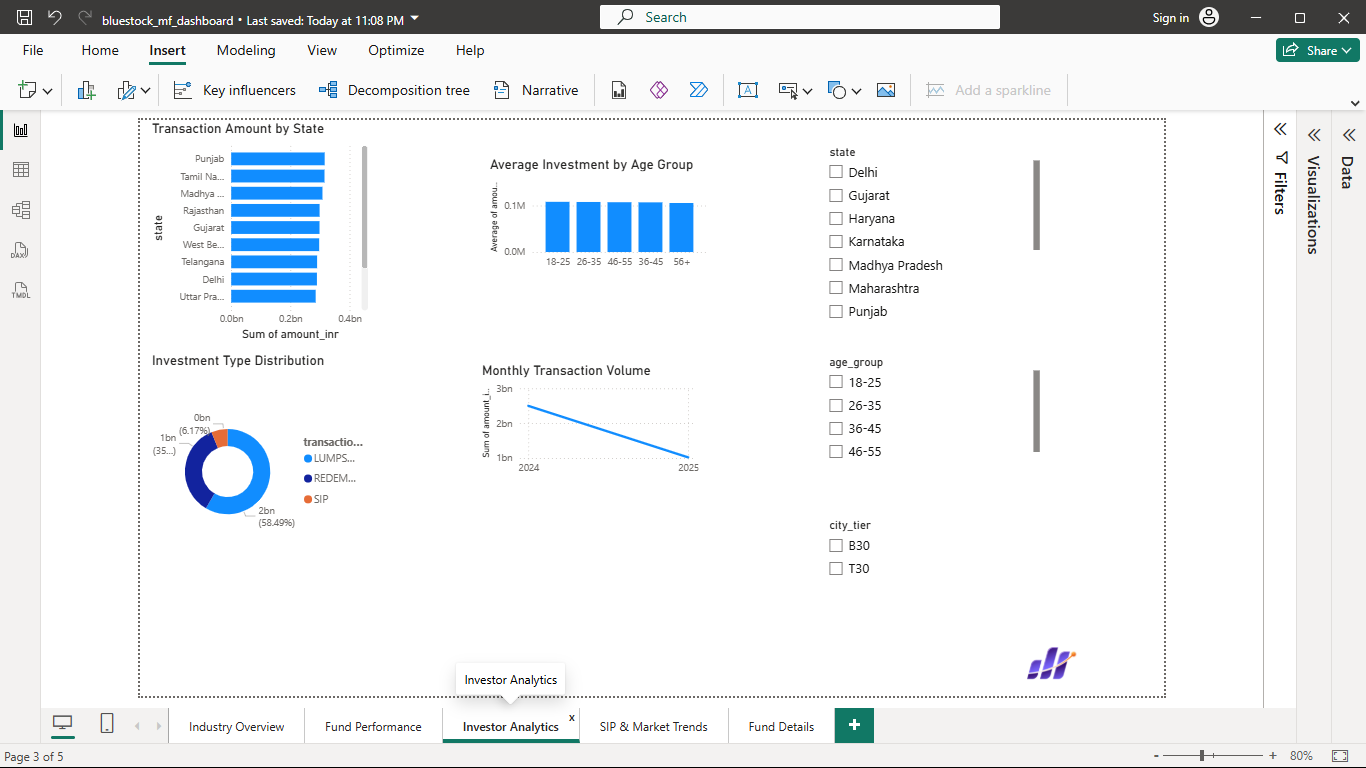

Layout of this report page (visuals, bound fields, positions):
{"tool":"powerbi","page":{"name":"Investor Analytics","canvas":[1280,720],"ordinal":2},"visuals":[{"type":"clusteredBarChart","title":"Transaction Amount by State","fields":{"Y":["Sum(clean_investor_transactions.amount_inr)"],"Category":["clean_investor_transactions.state"]},"box":[10,0,280,280],"z":0},{"type":"donutChart","title":"Investment Type Distribution","fields":{"Category":["clean_investor_transactions.transaction_type"],"Y":["Sum(clean_investor_transactions.amount_inr)"]},"box":[10,290,280,280],"z":1000},{"type":"clusteredColumnChart","title":"Average Investment by Age Group","fields":{"Category":["clean_investor_transactions.age_group"],"Y":["Avg(clean_investor_transactions.amount_inr)"]},"box":[432.2,45.4,280.8,150],"z":2000},{"type":"lineChart","title":"Monthly Transaction Volume","fields":{"Category":["clean_investor_transactions.transaction_date.Variation.Date Hierarchy.Year","clean_investor_transactions.transaction_date.Variation.Date Hierarchy.Quarter","clean_investor_transactions.transaction_date.Variation.Date Hierarchy.Month","clean_investor_transactions.transaction_date.Variation.Date Hierarchy.Day"],"Y":["Sum(clean_investor_transactions.amount_inr)"]},"box":[422.5,302.8,280.8,150],"z":3000},{"type":"slicer","fields":{"Values":["clean_investor_transactions.state"]},"box":[849.2,27.5,280.8,225.7],"z":4000},{"type":"slicer","fields":{"Values":["clean_investor_transactions.age_group"]},"box":[849.2,290.4,280.8,150],"z":5000},{"type":"slicer","fields":{"Values":["clean_investor_transactions.city_tier"]},"box":[849.2,494.1,280.8,169.3],"z":6000},{"type":"image","box":[999.2,638.6,280.8,81.2],"z":6001}]}

Visuals, with their boxes on the page's 1280x720 design canvas (x1, y1, x2, y2). These are canvas units, not pixel positions in the 1366x768 screenshot, which may show the page scaled, cropped or inside an application window:
"Transaction Amount by State" clusteredBarChart: {"x1": 10, "y1": 0, "x2": 290, "y2": 280}
"Investment Type Distribution" donutChart: {"x1": 10, "y1": 290, "x2": 290, "y2": 570}
"Average Investment by Age Group" clusteredColumnChart: {"x1": 432, "y1": 45, "x2": 713, "y2": 195}
"Monthly Transaction Volume" lineChart: {"x1": 422, "y1": 303, "x2": 703, "y2": 453}
slicer - clean_investor_transactions.state: {"x1": 849, "y1": 28, "x2": 1130, "y2": 253}
slicer - clean_investor_transactions.age_group: {"x1": 849, "y1": 290, "x2": 1130, "y2": 440}
slicer - clean_investor_transactions.city_tier: {"x1": 849, "y1": 494, "x2": 1130, "y2": 663}
image: {"x1": 999, "y1": 639, "x2": 1280, "y2": 720}
